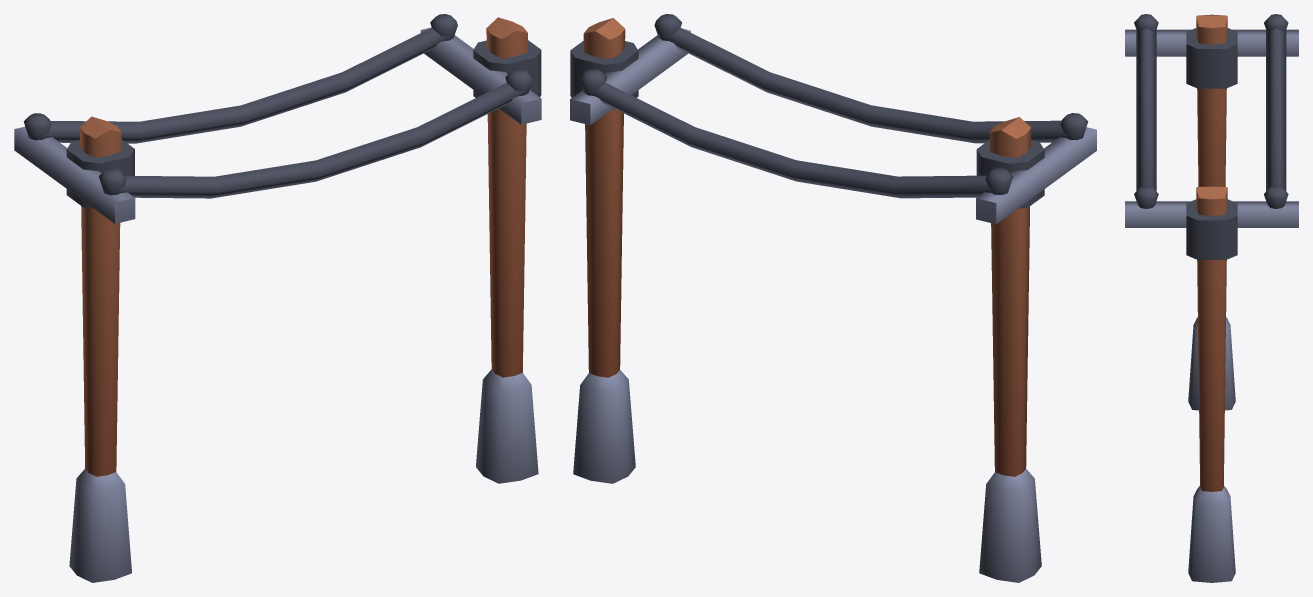
The model's file is power_pole.glb.
3 renders of one model, left to right at view 1: azimuth 30°, elevation 25°; view 2: azimuth 150°, elevation 25°; view 3: azimuth 270°, elevation 25°, orthographic. The views are drawn at different scales.
Parts seen in each view (by area): view 1: electricity-pole; view 2: electricity-pole; view 3: electricity-pole.
Boxes of the visible parts, <box> form: electricity-pole: <box>14,14,541,582</box>; electricity-pole: <box>570,14,1096,582</box>; electricity-pole: <box>1125,14,1298,582</box>.
Size of the model in its own units: 0.5791 by 0.525 by 0.2142.
1 material, 1 textured.
